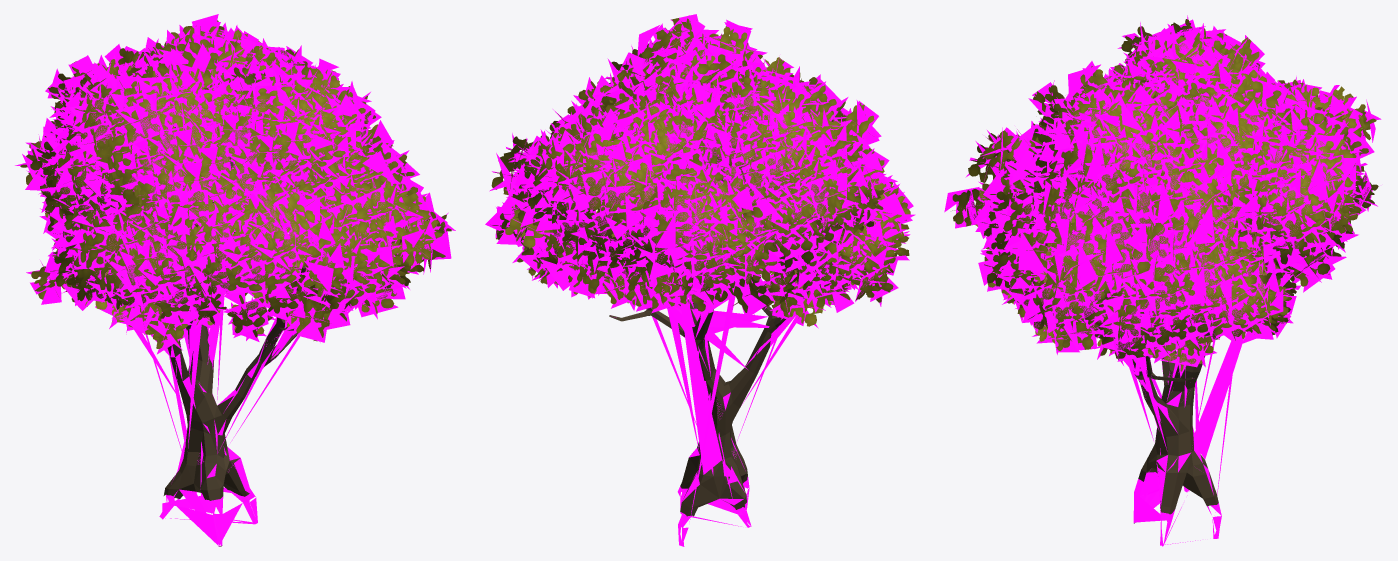
The model's file is SM_Env_Tree_Fruit_02.glb.
The picture shows the model from 3 angles, left to right: view 1: azimuth 30°, elevation 25°; view 2: azimuth 150°, elevation 25°; view 3: azimuth 270°, elevation 25°; orthographic projection.
Parts seen in each view (by area): view 1: SM_Env_Tree_Fruit_02; view 2: SM_Env_Tree_Fruit_02; view 3: SM_Env_Tree_Fruit_02.
Boxes of the visible parts, x1,y1,x2,y2 form: SM_Env_Tree_Fruit_02: (15,14,455,546); SM_Env_Tree_Fruit_02: (485,14,915,546); SM_Env_Tree_Fruit_02: (944,15,1381,546).
Bounding box in the file's own units: 4.49 × 5.6 × 4.53.
Materials: 2 (1 with a texture image).
